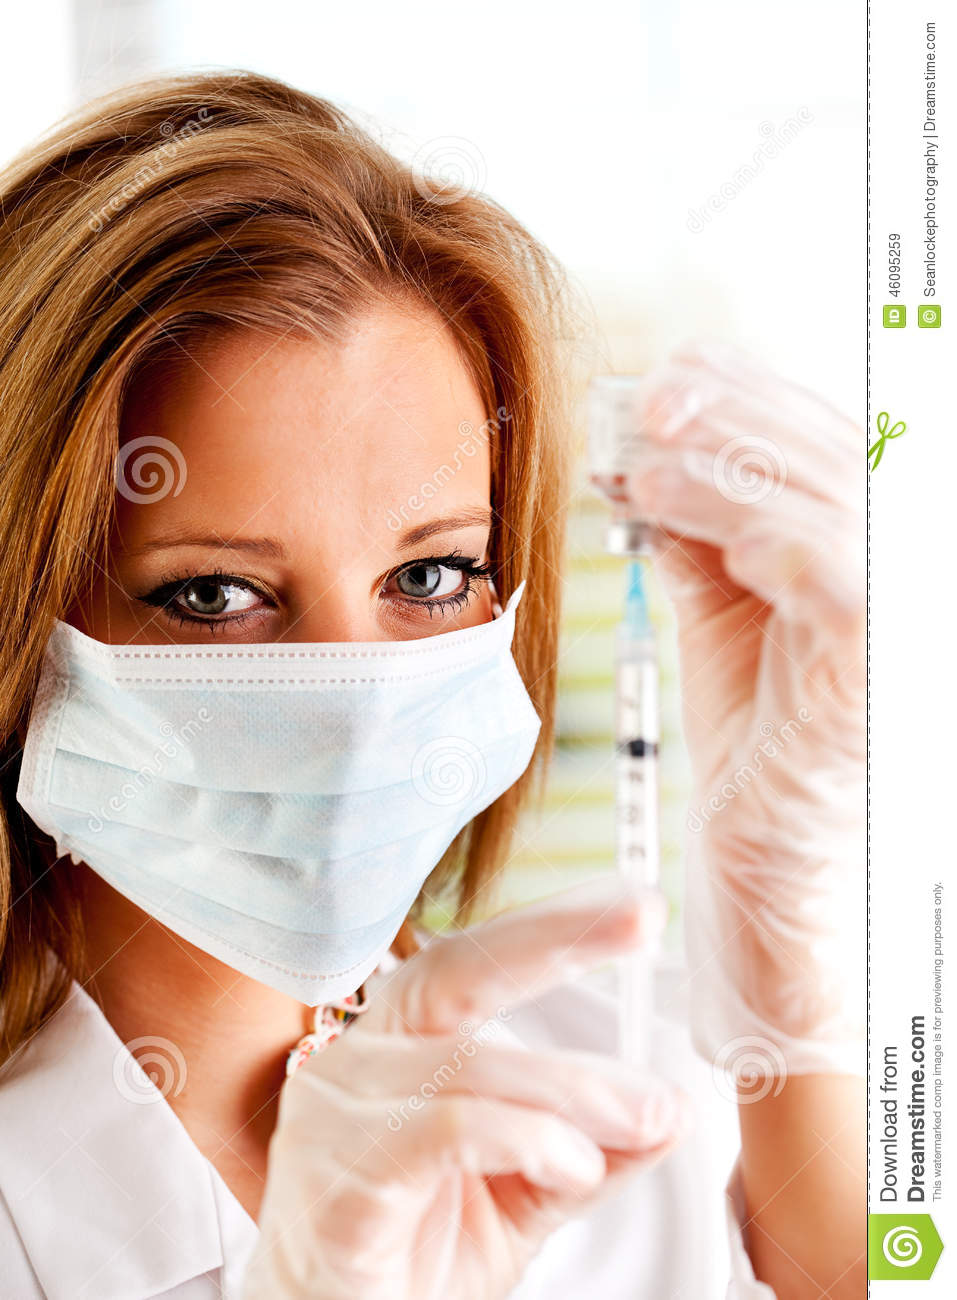mask: (54, 615, 556, 1015)
